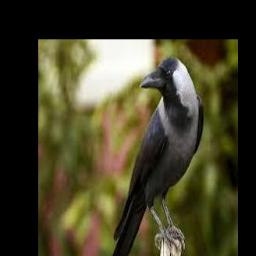Crow: (109, 56, 203, 256)
